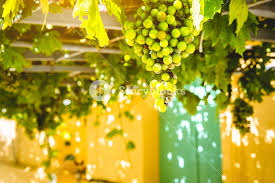grapes: (134, 5, 196, 93)
